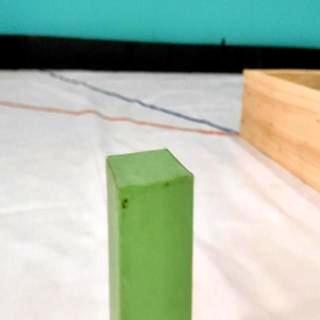greenbox: (104, 146, 196, 320)
